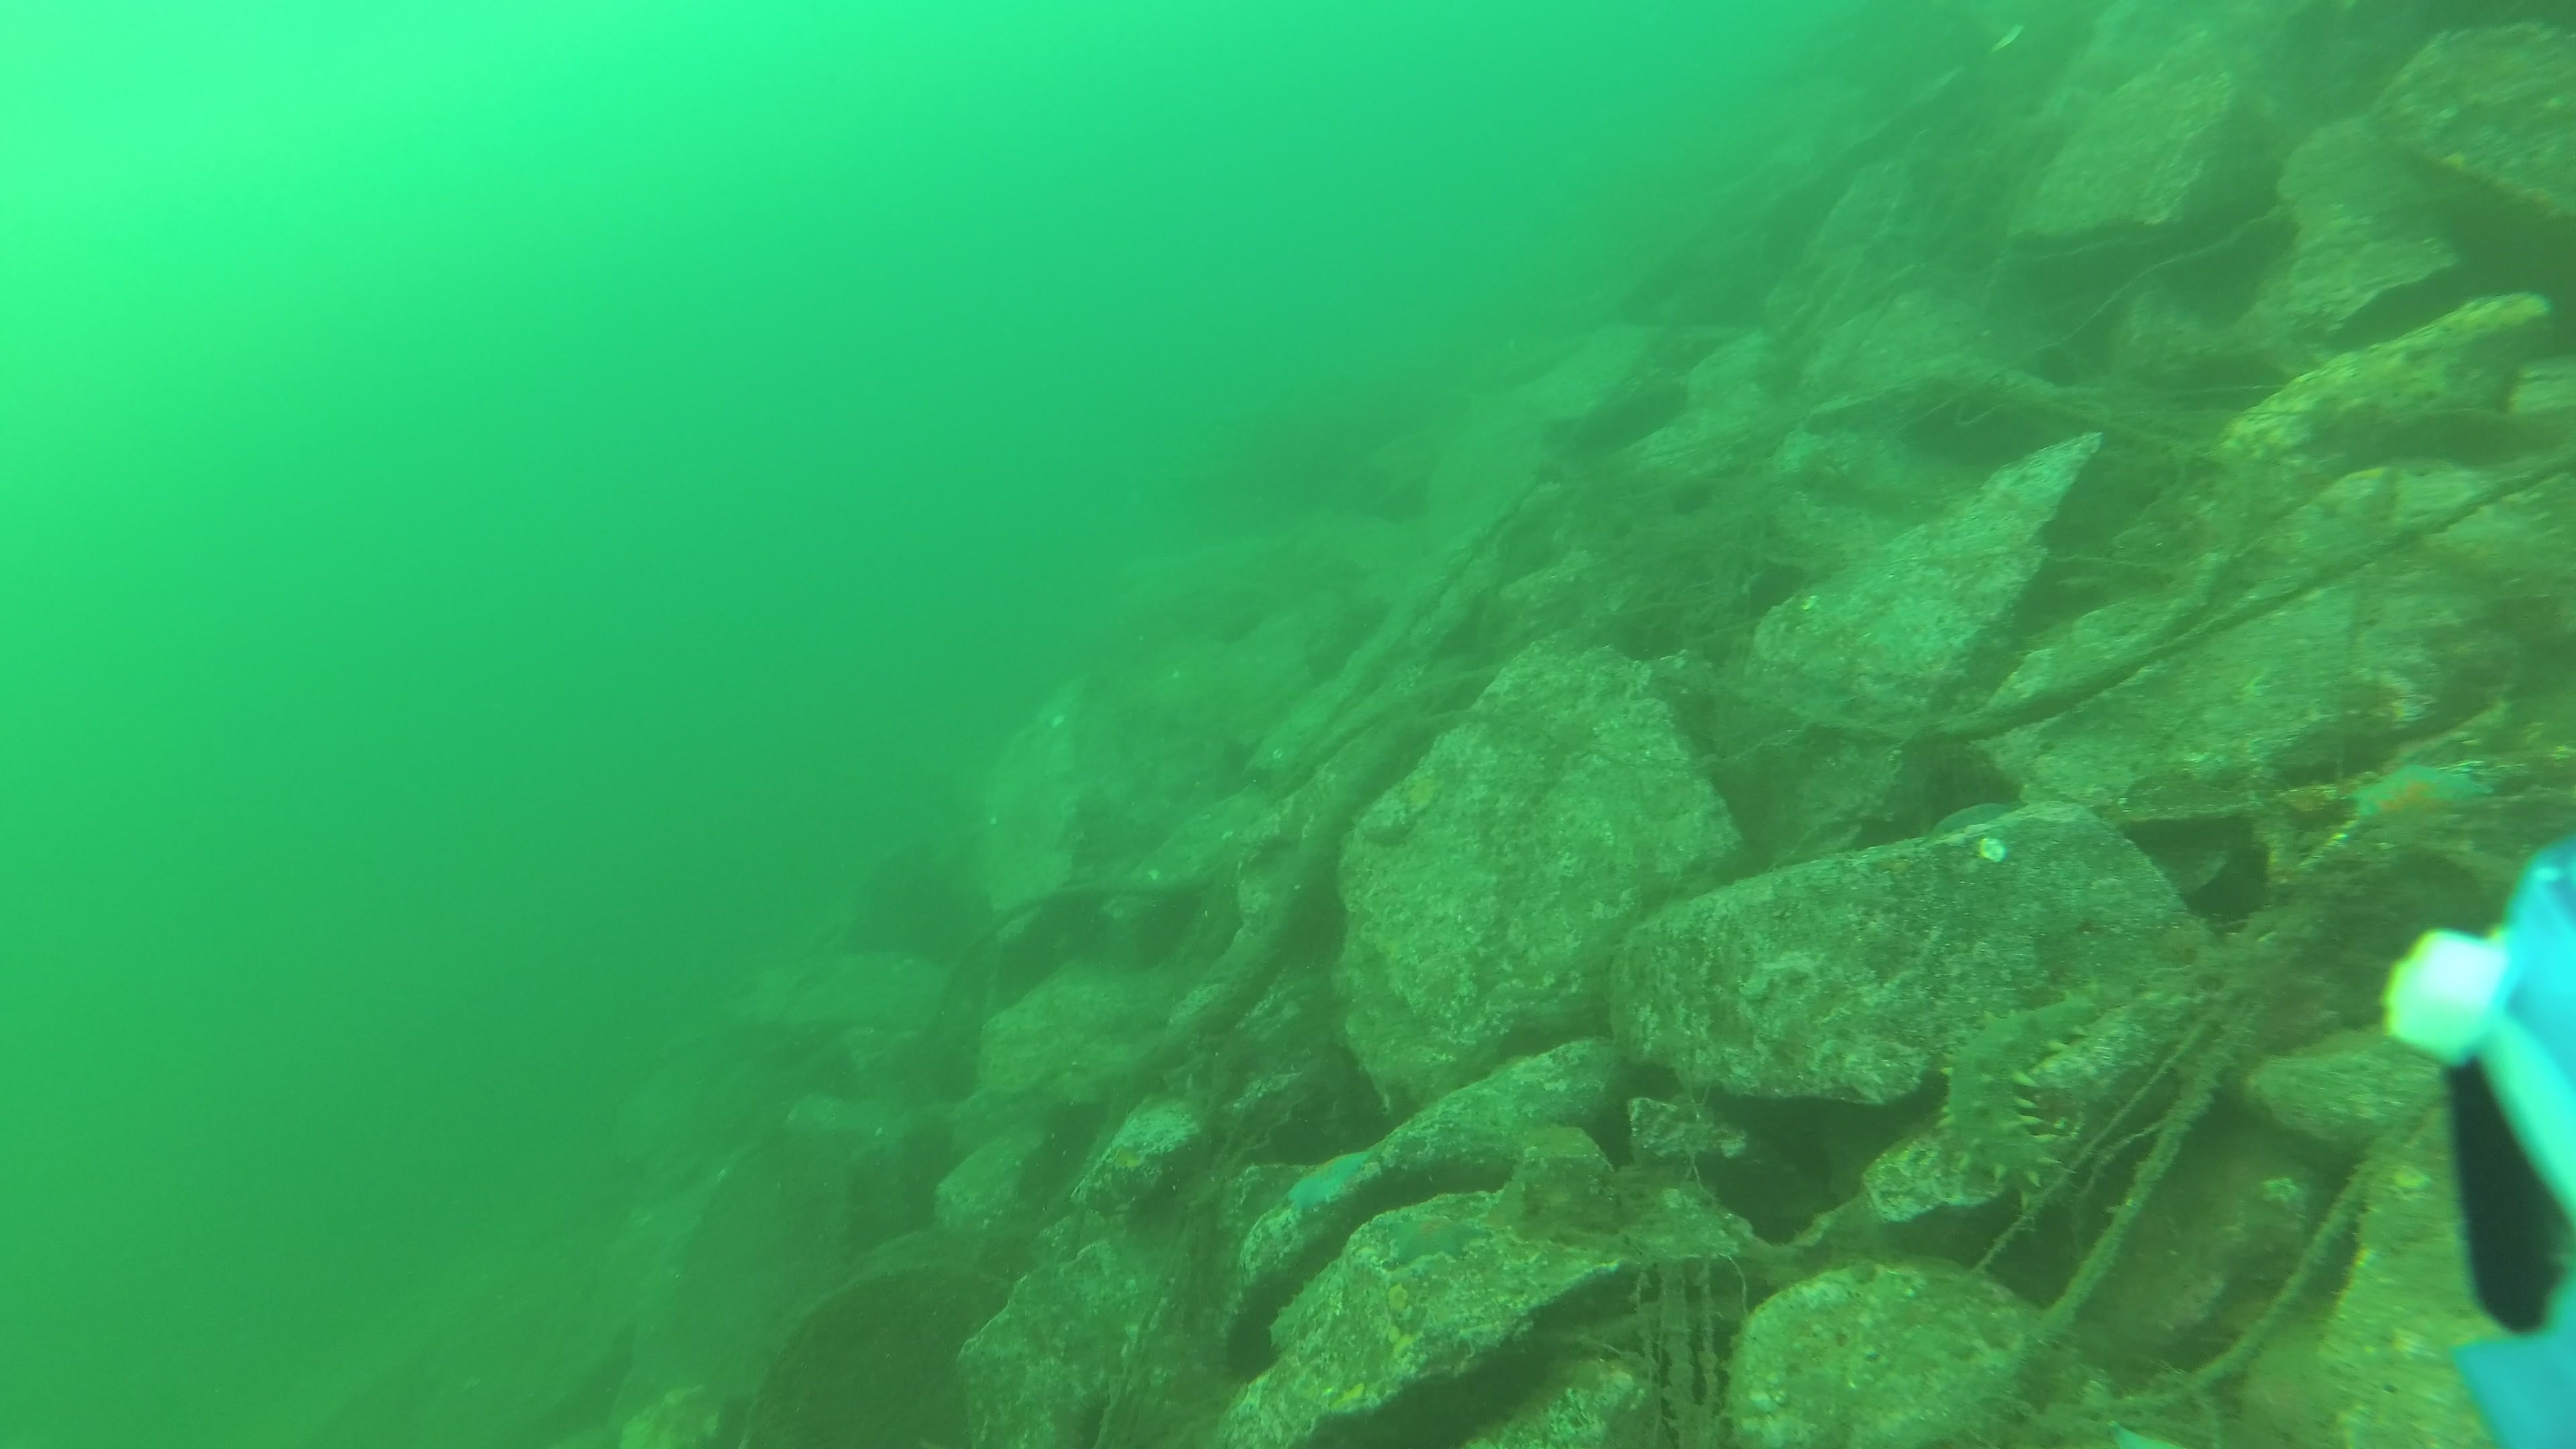holothurian: (1934, 985, 2111, 1203)
starfish: (2335, 752, 2502, 847), (1384, 1210, 1491, 1270), (1284, 1148, 1376, 1210)
